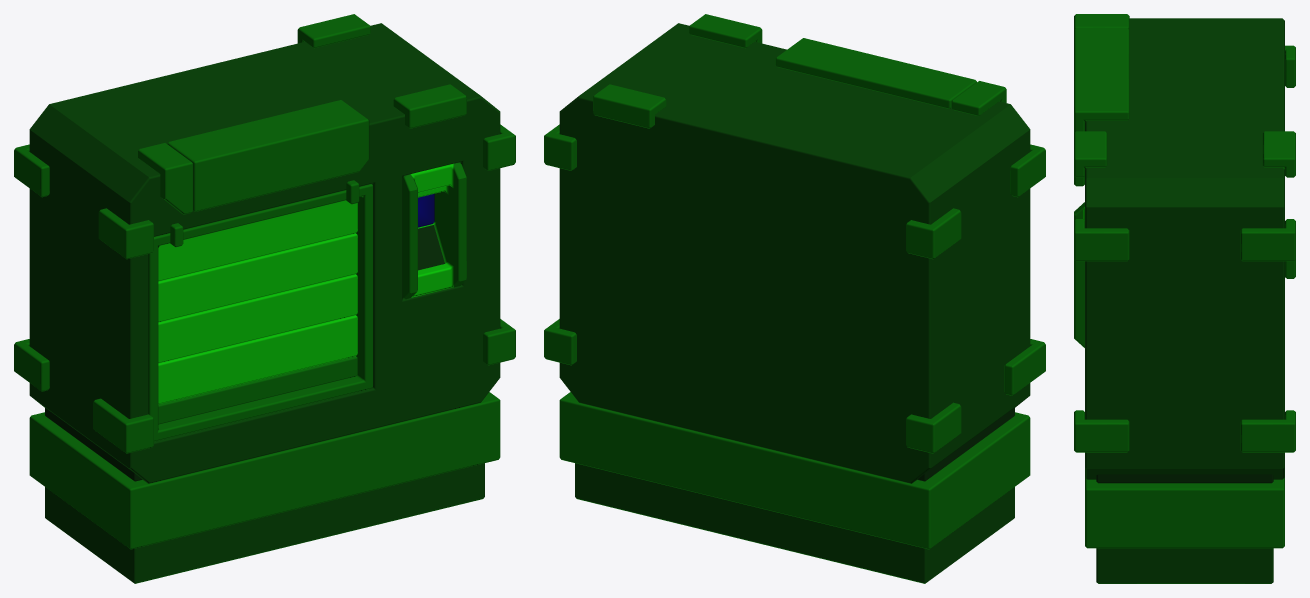
3 renders of one model, left to right at view 1: azimuth 30°, elevation 25°; view 2: azimuth 150°, elevation 25°; view 3: azimuth 270°, elevation 25°, orthographic.
Parts seen in each view (by area): view 1: Plane.596; view 2: Plane.596; view 3: Plane.596.
Boxes of the visible parts, x1,y1,x2,y2 form: Plane.596: [14, 14, 515, 583]; Plane.596: [544, 14, 1045, 583]; Plane.596: [1074, 14, 1295, 583].
Bounding box in the file's own units: 200 × 205 × 100.
